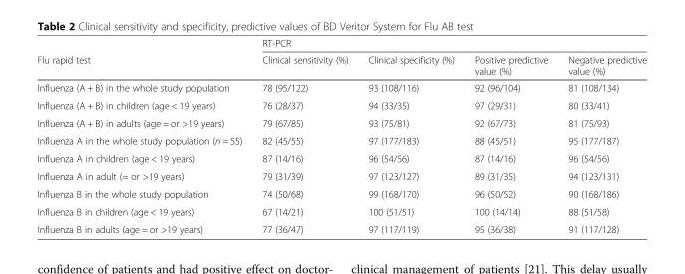table: (36, 37, 646, 234)
table column: (36, 37, 251, 234), (251, 37, 357, 234), (357, 37, 463, 234), (463, 37, 557, 234), (557, 37, 646, 234)
table column header: (36, 37, 646, 79)
table row: (36, 51, 646, 79), (36, 113, 646, 131), (36, 131, 646, 149), (36, 149, 646, 167), (36, 184, 646, 202), (36, 202, 646, 220), (36, 79, 646, 96), (36, 96, 646, 113), (36, 167, 646, 184), (36, 37, 646, 51), (36, 220, 646, 234)
table spanning cell: (36, 37, 251, 79), (251, 37, 646, 51)
